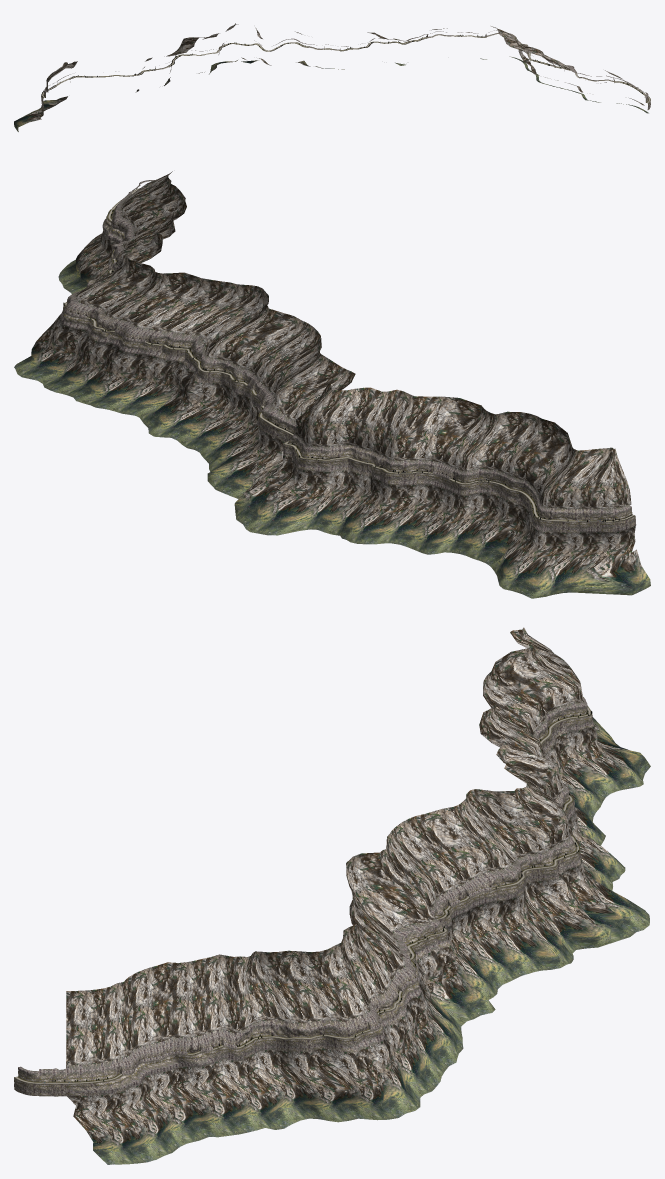
The model's file is switzerland_stage4_visual.glb.
3 views of the same model, one above another, from view 1: azimuth 30°, elevation 25°; view 2: azimuth 150°, elevation 25°; view 3: azimuth 270°, elevation 25° (orthographic). The views are drawn at different scales.
Visible parts, largest first — view 1: Track_Road_And_Terrain; view 2: Track_Road_And_Terrain; view 3: Track_Road_And_Terrain.
Boxes of the visible parts, x1=… form: Track_Road_And_Terrain: x1=14, y1=23, x2=650, y2=131; Track_Road_And_Terrain: x1=14, y1=171, x2=650, y2=598; Track_Road_And_Terrain: x1=14, y1=627, x2=650, y2=1164.
Size of the model in its own units: 3604 by 558 by 2252.
Materials: 46 (46 with a texture image).
